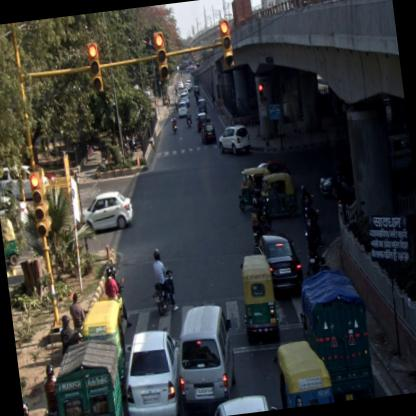car: (171, 302, 240, 408), (120, 326, 188, 415), (252, 229, 304, 297), (78, 189, 136, 233), (203, 393, 279, 415), (216, 122, 252, 157), (200, 120, 217, 146), (196, 110, 206, 130), (178, 100, 188, 119), (197, 98, 206, 113), (176, 78, 183, 90)
motorcycle: (146, 244, 177, 314), (104, 263, 132, 331), (36, 363, 64, 415), (304, 225, 322, 276), (248, 198, 266, 245), (169, 113, 178, 134), (185, 109, 192, 126)
truck: (298, 266, 376, 404), (52, 337, 129, 415)
